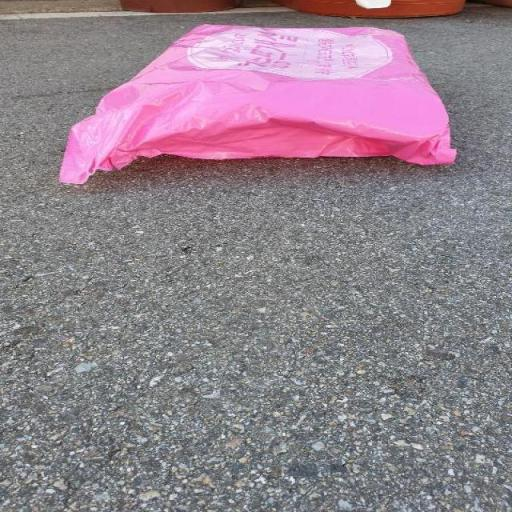plastic-bag: (61, 22, 456, 186)
